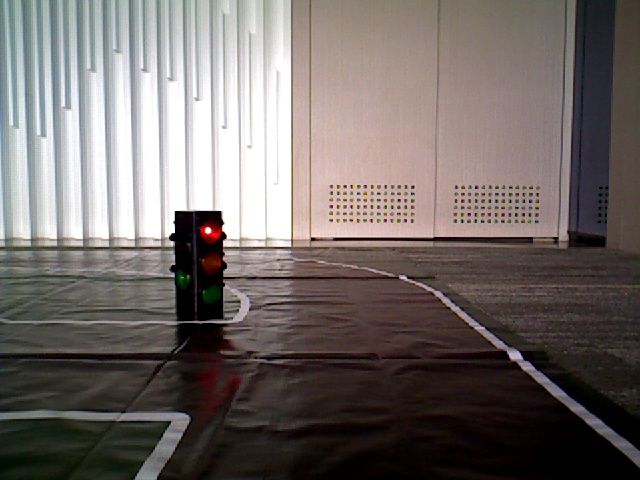red: (185, 214, 223, 296)
